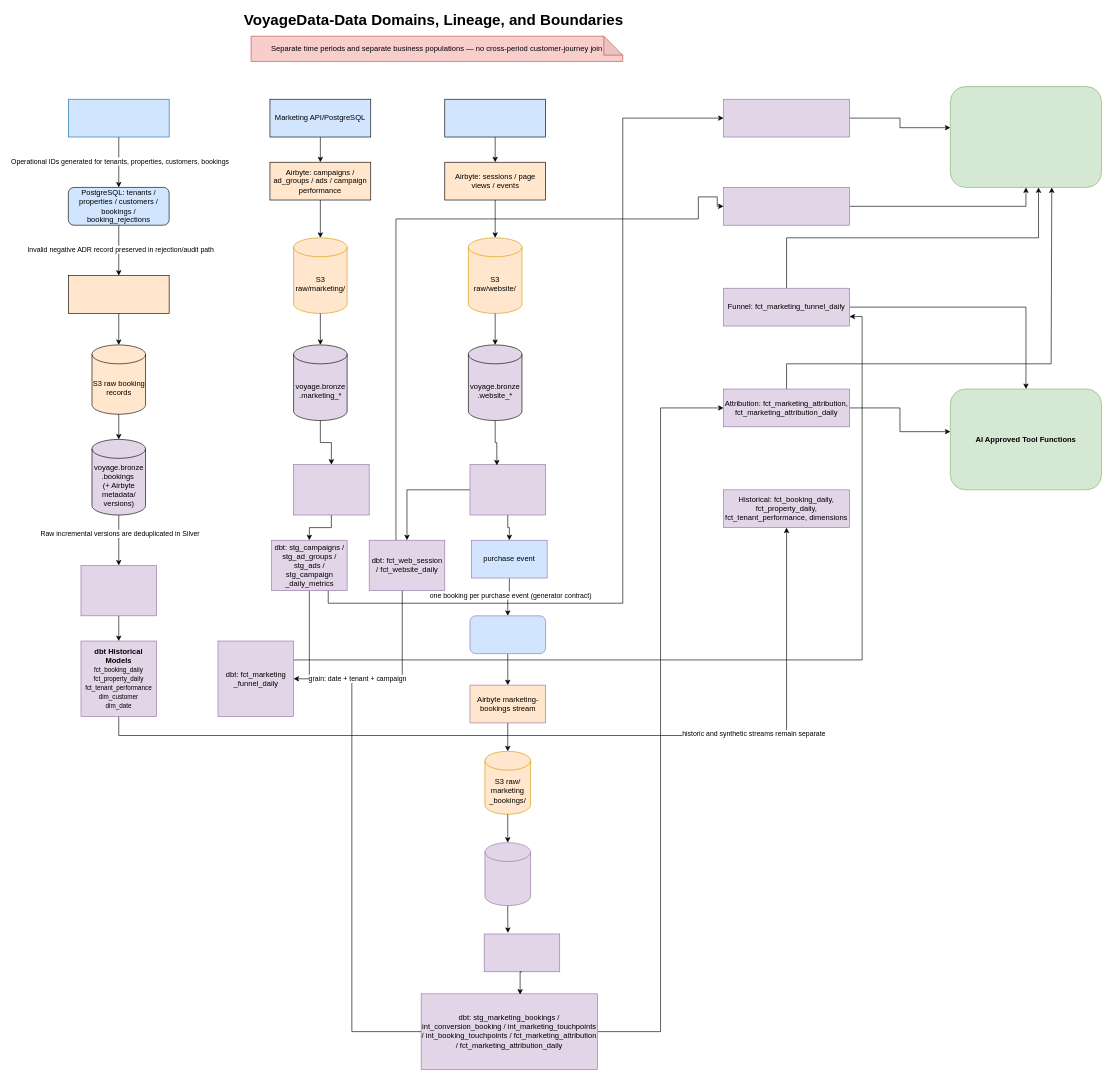
Image size: 1113x1080. Some labels were removed from this diagram. The centre of each missing label's shape, as x and y in pixels:
"Airbyte booking stream" goes at (x=118, y=294).
"Hotel Booking Demand CSV" goes at (x=118, y=118).
"Marketing: fct_campaign_daily" goes at (x=786, y=118).
"marketing_bookings API/PostgreSQL" goes at (x=507, y=634).
"Power BI Semantic Measures" goes at (x=1026, y=136).
"voyage .bronze .marketing _bookings" goes at (x=507, y=874).
"voyage.silver .dim_campaign / dim_ad_group / dim_ad / fact_campaign_daily" goes at (x=331, y=489).
"voyage.silver marketing booking facts" goes at (x=522, y=952).
"voyage.silver website tables" goes at (x=507, y=489).
"voyage.silver. fact_booking + dims" goes at (x=118, y=590).
"Website generator + API/PostgreSQL" goes at (x=495, y=118).
"Website: fct_website_daily, fct_web_session" goes at (x=786, y=206).
